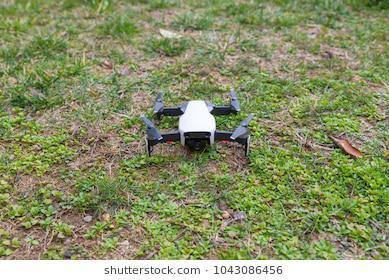drone: (138, 89, 260, 162)
